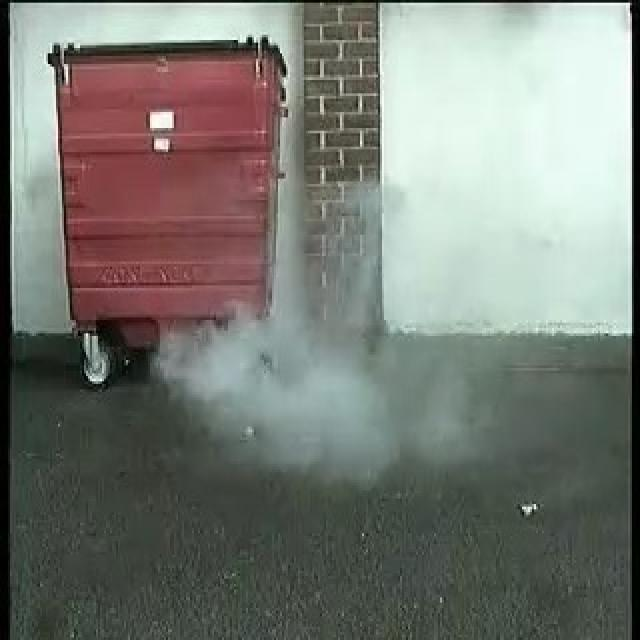smoke: (159, 289, 400, 455)
